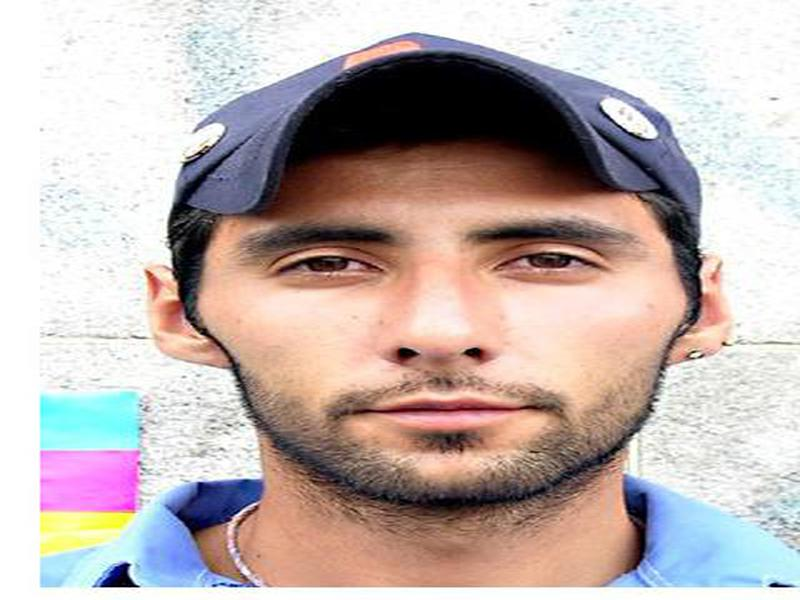without_mask: (195, 165, 666, 502)
